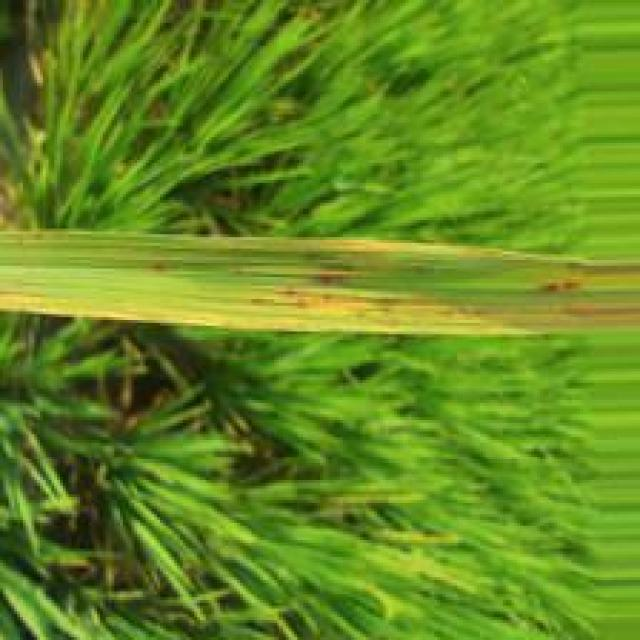Narrow_Brown_Leaf_Spot: (0, 237, 640, 337)
